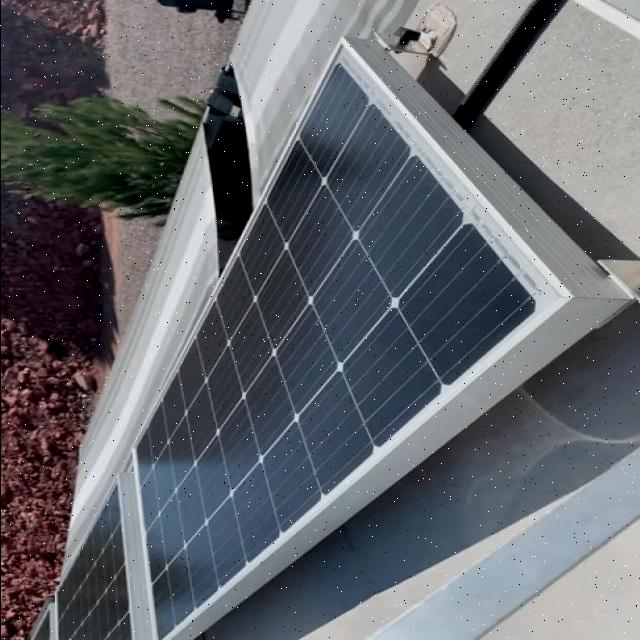Normal Solar Panel: (133, 40, 573, 640), (18, 479, 131, 640)
